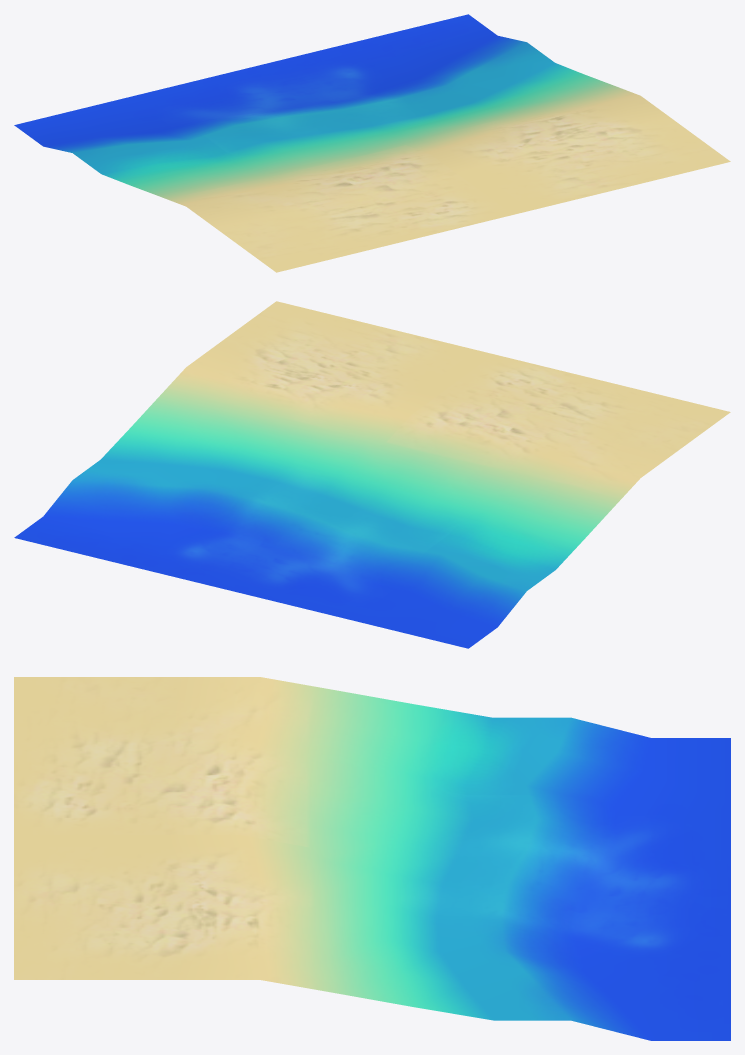
Rendered from land_beach00_d.fbx.
3 renders of one model, top to bottom at view 1: azimuth 30°, elevation 25°; view 2: azimuth 150°, elevation 25°; view 3: azimuth 270°, elevation 25°, orthographic. The views are drawn at different scales.
Visible parts, largest first — view 1: land_beach00_d; view 2: land_beach00_d; view 3: land_beach00_d.
Part boxes in pixels (x1,y1,x2,y2): land_beach00_d: (14, 14, 730, 272); land_beach00_d: (14, 301, 730, 648); land_beach00_d: (14, 677, 730, 1040).
Size of the model in its own units: 48 by 4.5 by 48.
